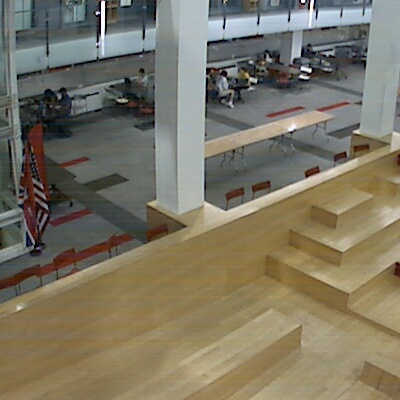head: (58, 85, 69, 96), (138, 67, 149, 78), (42, 88, 52, 98), (220, 68, 230, 78), (239, 65, 249, 75), (263, 47, 273, 57), (305, 42, 313, 50)
